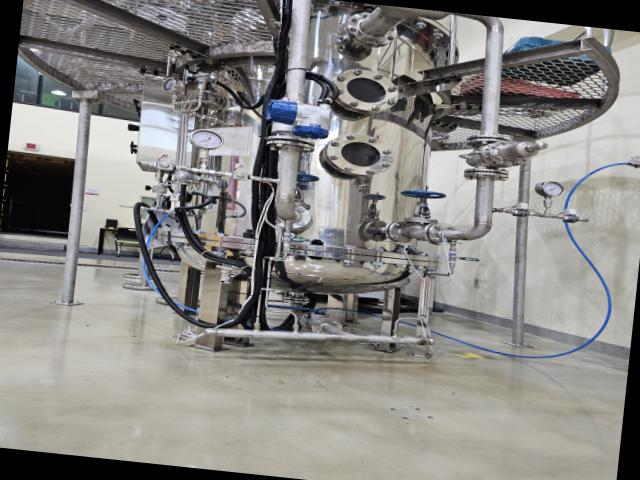Flange: (331, 66, 404, 118), (326, 132, 398, 180)
Flush Ring: (344, 11, 404, 49), (267, 202, 314, 232), (264, 134, 322, 155), (462, 166, 510, 184), (308, 315, 344, 338), (422, 221, 454, 246), (383, 220, 416, 244), (465, 134, 516, 149)
GasRegulator: (159, 68, 233, 123)
Nuts: (152, 158, 180, 174), (510, 206, 538, 220), (230, 168, 252, 184), (560, 213, 586, 226)
Piston Valve: (396, 182, 451, 222), (294, 172, 324, 204)
Pressure Gage: (182, 126, 229, 172), (530, 177, 568, 216)
